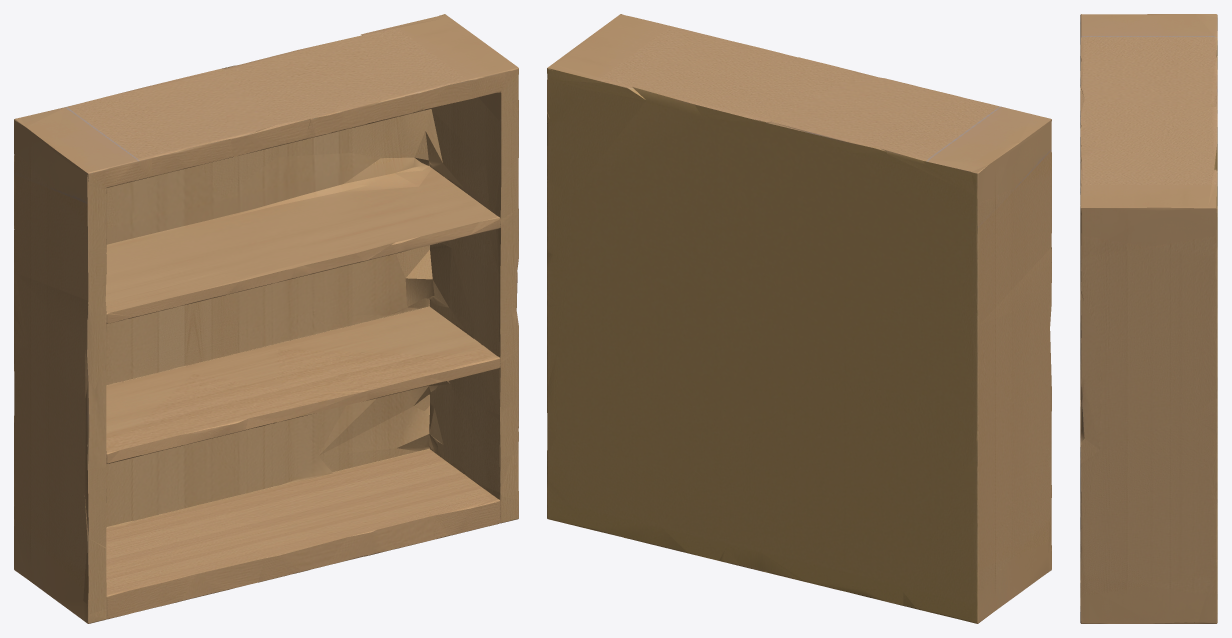
The picture shows the model from 3 angles, left to right: view 1: azimuth 30°, elevation 25°; view 2: azimuth 150°, elevation 25°; view 3: azimuth 270°, elevation 25°; orthographic projection. The views are drawn at different scales.
Bounding box in the file's own units: 1.9 × 1.9 × 0.5683.
Materials: 1 (1 with a texture image).
